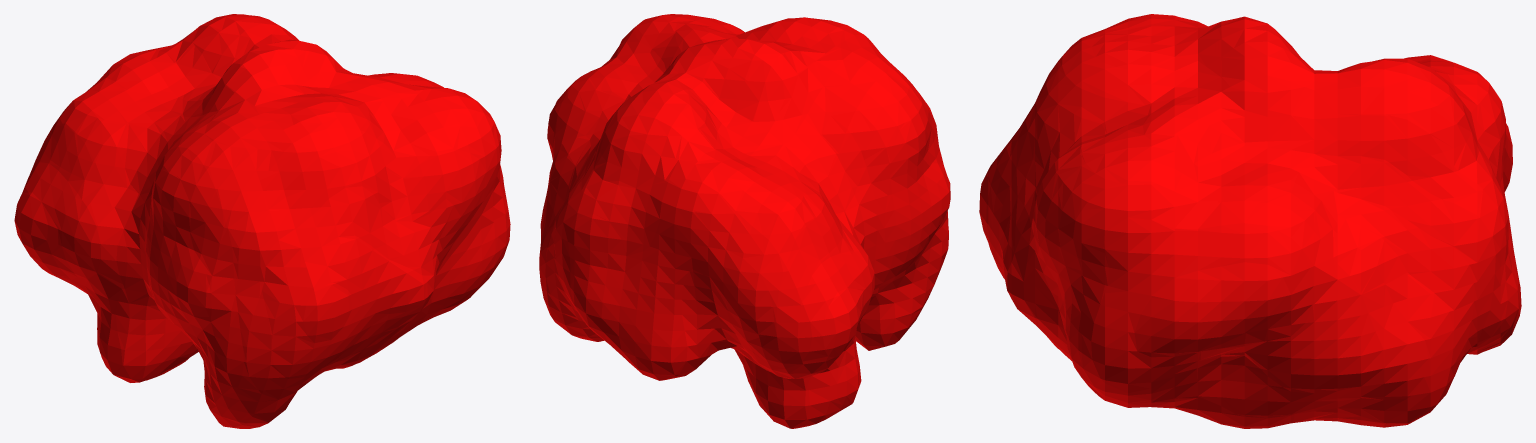
The model's file is ybgL_coarse.dae.
The picture shows the model from 3 angles, left to right: view 1: azimuth 30°, elevation 25°; view 2: azimuth 150°, elevation 25°; view 3: azimuth 270°, elevation 25°; orthographic projection. The views are drawn at different scales.
Parts seen in each view (by area): view 1: ybgL; view 2: ybgL; view 3: ybgL.
Part boxes in pixels (bbox=[...]): ybgL: bbox=[14, 14, 510, 428]; ybgL: bbox=[539, 14, 950, 428]; ybgL: bbox=[979, 14, 1521, 428].
Bounding box in the file's own units: 48.79 × 40.87 × 49.78.
